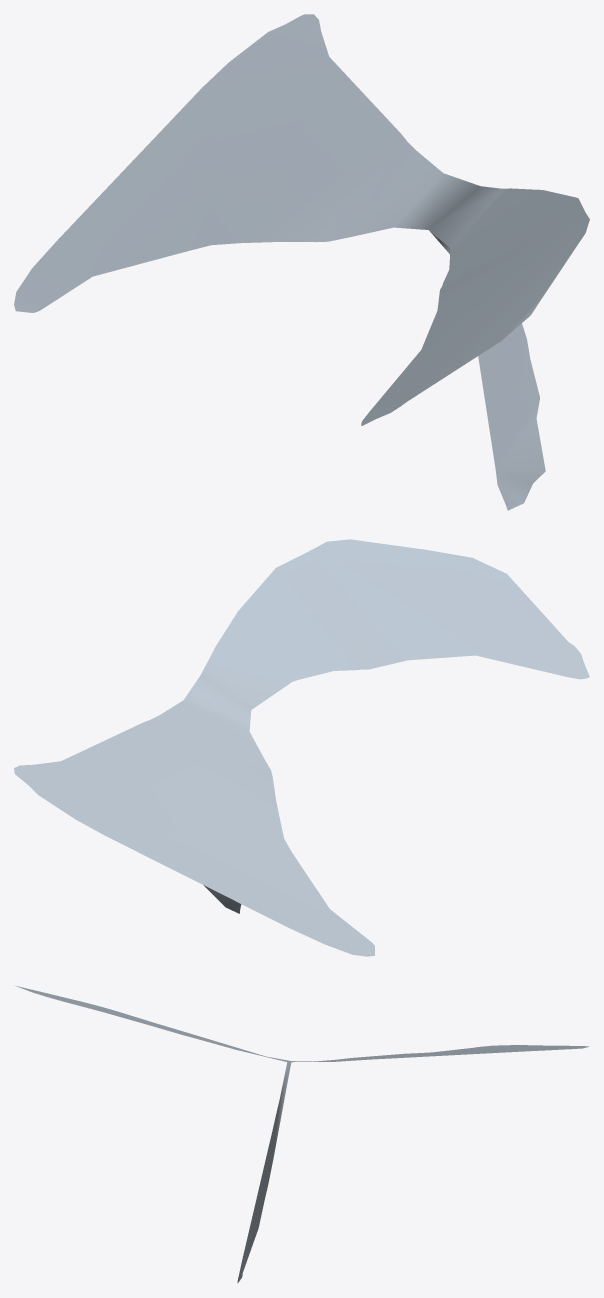
File: triradiate-cartilage-r.glb
The picture shows the model from 3 angles, top to bottom: view 1: azimuth 30°, elevation 25°; view 2: azimuth 150°, elevation 25°; view 3: azimuth 270°, elevation 25°; orthographic projection. The views are drawn at different scales.
Visible parts, largest first — view 1: Triradiate cartilage.r; view 2: Triradiate cartilage.r; view 3: Triradiate cartilage.r.
Part boxes in pixels (bbox=[...]): Triradiate cartilage.r: bbox=[14, 14, 589, 510]; Triradiate cartilage.r: bbox=[14, 539, 589, 956]; Triradiate cartilage.r: bbox=[15, 985, 589, 1283].
Bounding box in the file's own units: 0.038 × 0.0354 × 0.0685.
